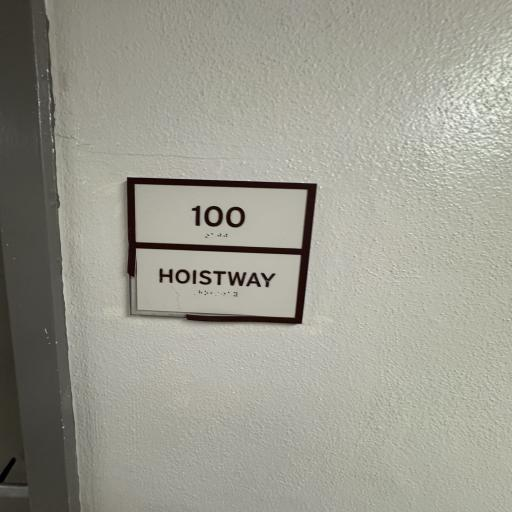room 100 sign: (118, 170, 312, 330)
